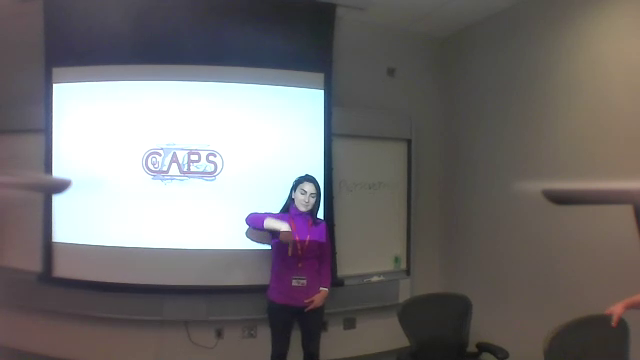down: (275, 219, 296, 260)
